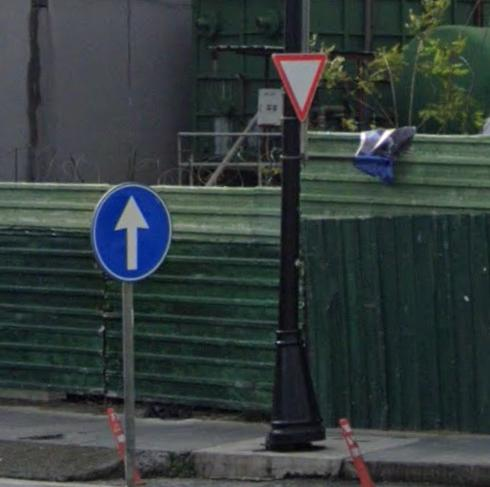forward: (98, 184, 166, 274)
